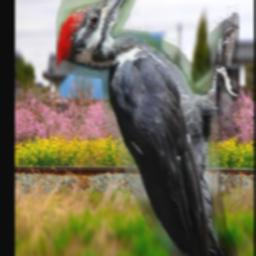Woodpecker: (56, 0, 239, 256)
